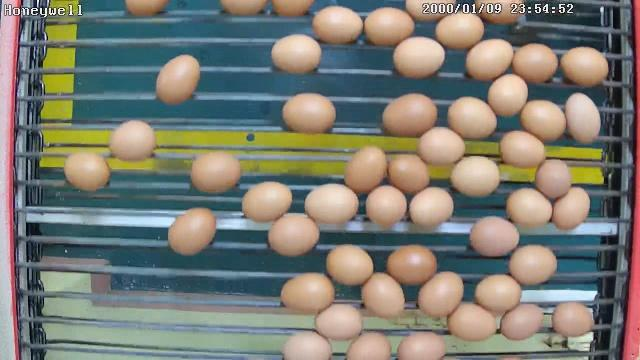egg: (379, 92, 438, 140), (165, 207, 218, 258), (266, 211, 322, 259), (280, 92, 338, 138), (279, 270, 335, 316), (303, 182, 359, 227), (153, 54, 202, 105), (468, 214, 521, 260), (342, 145, 388, 198), (188, 151, 242, 196), (360, 270, 408, 320), (449, 154, 501, 200), (392, 36, 446, 80), (416, 270, 465, 318), (558, 45, 610, 90), (446, 96, 498, 141), (363, 6, 416, 50), (446, 300, 499, 344), (464, 36, 514, 82), (386, 244, 438, 288), (324, 244, 376, 288), (240, 180, 292, 224), (106, 119, 158, 163), (505, 185, 553, 232), (507, 244, 558, 288), (270, 34, 322, 77), (519, 98, 566, 145), (310, 6, 362, 48), (407, 185, 455, 230), (62, 151, 112, 194), (313, 301, 364, 343), (511, 41, 558, 86), (564, 91, 602, 146), (433, 11, 485, 51), (364, 182, 408, 229), (416, 127, 466, 168), (484, 73, 528, 119), (498, 128, 546, 170), (550, 185, 591, 233), (498, 300, 544, 342), (474, 274, 522, 314), (386, 152, 430, 195), (550, 300, 596, 338), (534, 157, 572, 202)
